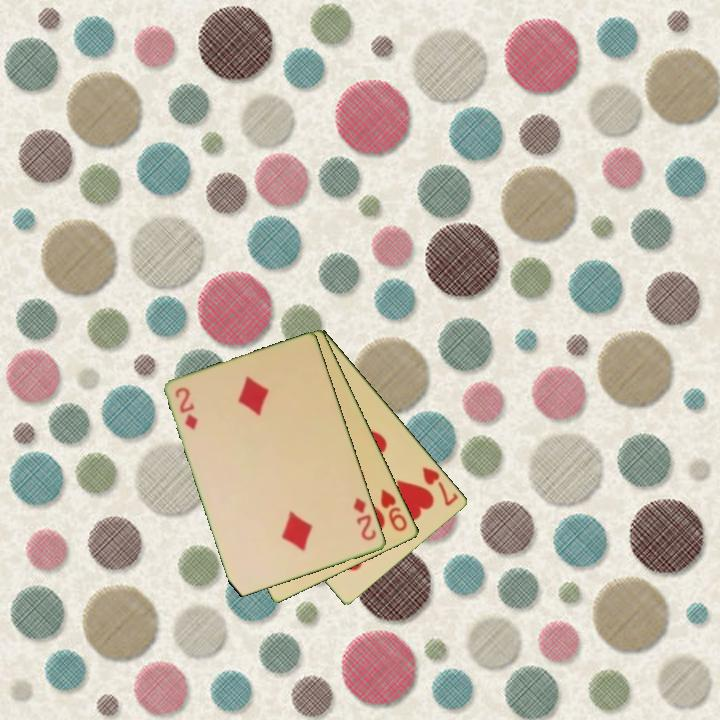2d: (350, 495, 380, 544), (172, 384, 201, 433)
7h: (419, 463, 462, 509)
9h: (377, 485, 410, 535)
